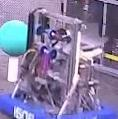blue_number: (12, 103, 36, 119)
